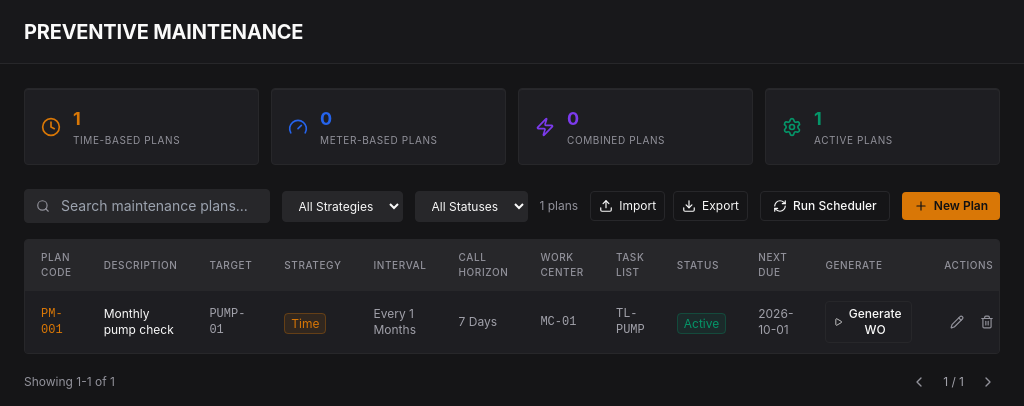
Test: PreventiveMaintenancePage plan management (SOW 2.2 / D-10 / 3.4.2) › runs the scheduler on demand and reports the generated count
Click the button "Run Scheduler" at (825, 206), box [760,191,890,221]
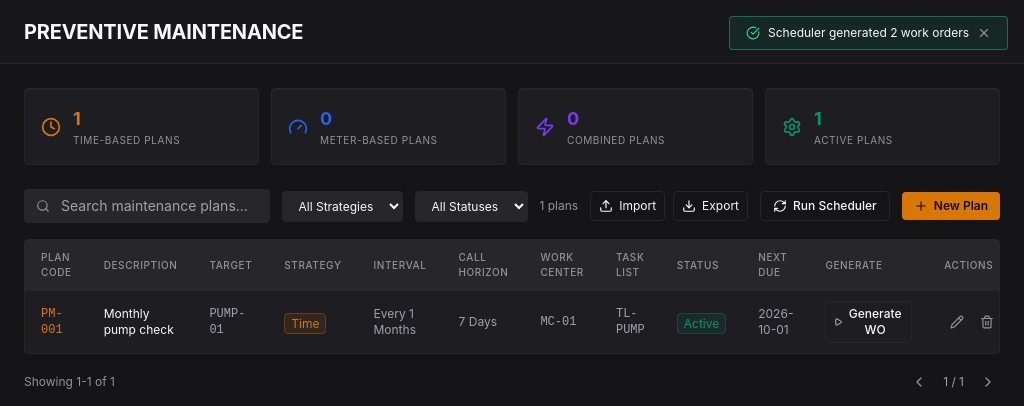
Now the text "Scheduler generated 2 work orders" is shown, box [768,25,969,41]
